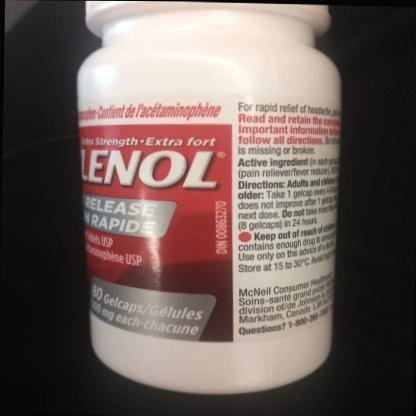jar: (76, 4, 341, 393)
